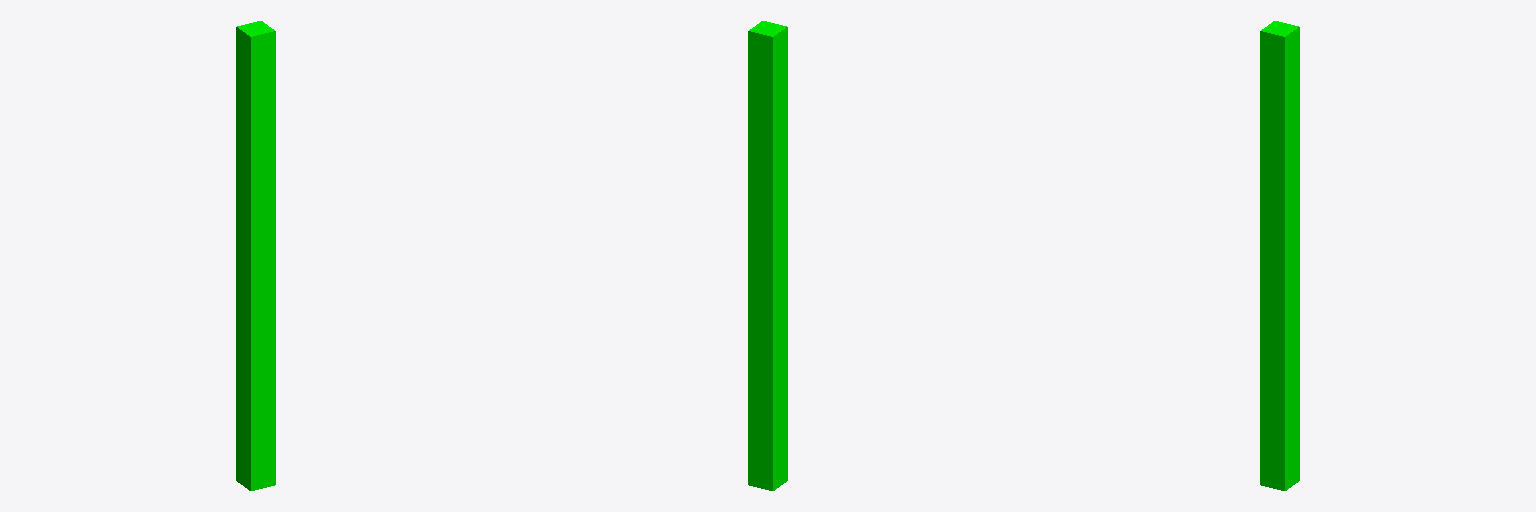
The robot description file, URDF, robot "tree_one":
<?xml version="1.0" ?>
<robot name="tree_one">
    <link name="block">
    <inertial>
      <origin xyz="0 0 0" rpy="0 0 0"/>
      <mass value="0.0"/>
      <inertia ixx="1" ixy="0" ixz="0" iyy="1" iyz="0" izz="1"/>
    </inertial>
    <!-- Visual representation of the cube (0.3m x 0.3m x 0.3m) -->
    <visual>
      <origin xyz="0 0 0" rpy="0 0 0"/>
      <geometry>
        <box size="0.4 0.4 7.0"/>
      </geometry>
      <material name="green">
        <color rgba="0 1 0 1"/>
      </material>
    </visual>
    <!-- Collision representation of the cube (0.3m x 0.3m x 0.3m) -->
    <collision>
      <origin xyz="0 0 0" rpy="0 0 0"/>
      <geometry>
        <box size="0.4 0.4 7.0"/>
      </geometry>
    </collision>    
    <!-- Contact properties (optional, e.g., friction) --> 
    <contact>
      <lateral_friction value="1.0"/>
      <rolling_friction value="0.0"/>
      <restitution value="0.0"/>
    </contact>
  </link>
</robot>  

--- What the picture shows (computed from the rendered views, not written in the file) ---
3 views of the same robot in one strip: view 1: azimuth 30°, elevation 25°; view 2: azimuth 150°, elevation 25°; view 3: azimuth 330°, elevation 25° (orthographic).
Model tree_one with 1 links and 0 joints (none), rooted at block, posed every joint at zero.
Links seen in each view (by area): view 1: block; view 2: block; view 3: block.
Link boxes in pixels (box(x1,y1,x2,y2)): block: box(236, 21, 275, 490); block: box(748, 21, 787, 490); block: box(1260, 21, 1299, 490).
Bounding box of the posed robot: 0.4 × 0.4 × 7 m (x, y, z).
Geometry: primitives only (box / cylinder / sphere), no mesh files.